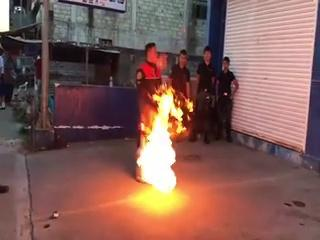Fire: (133, 83, 197, 191)
